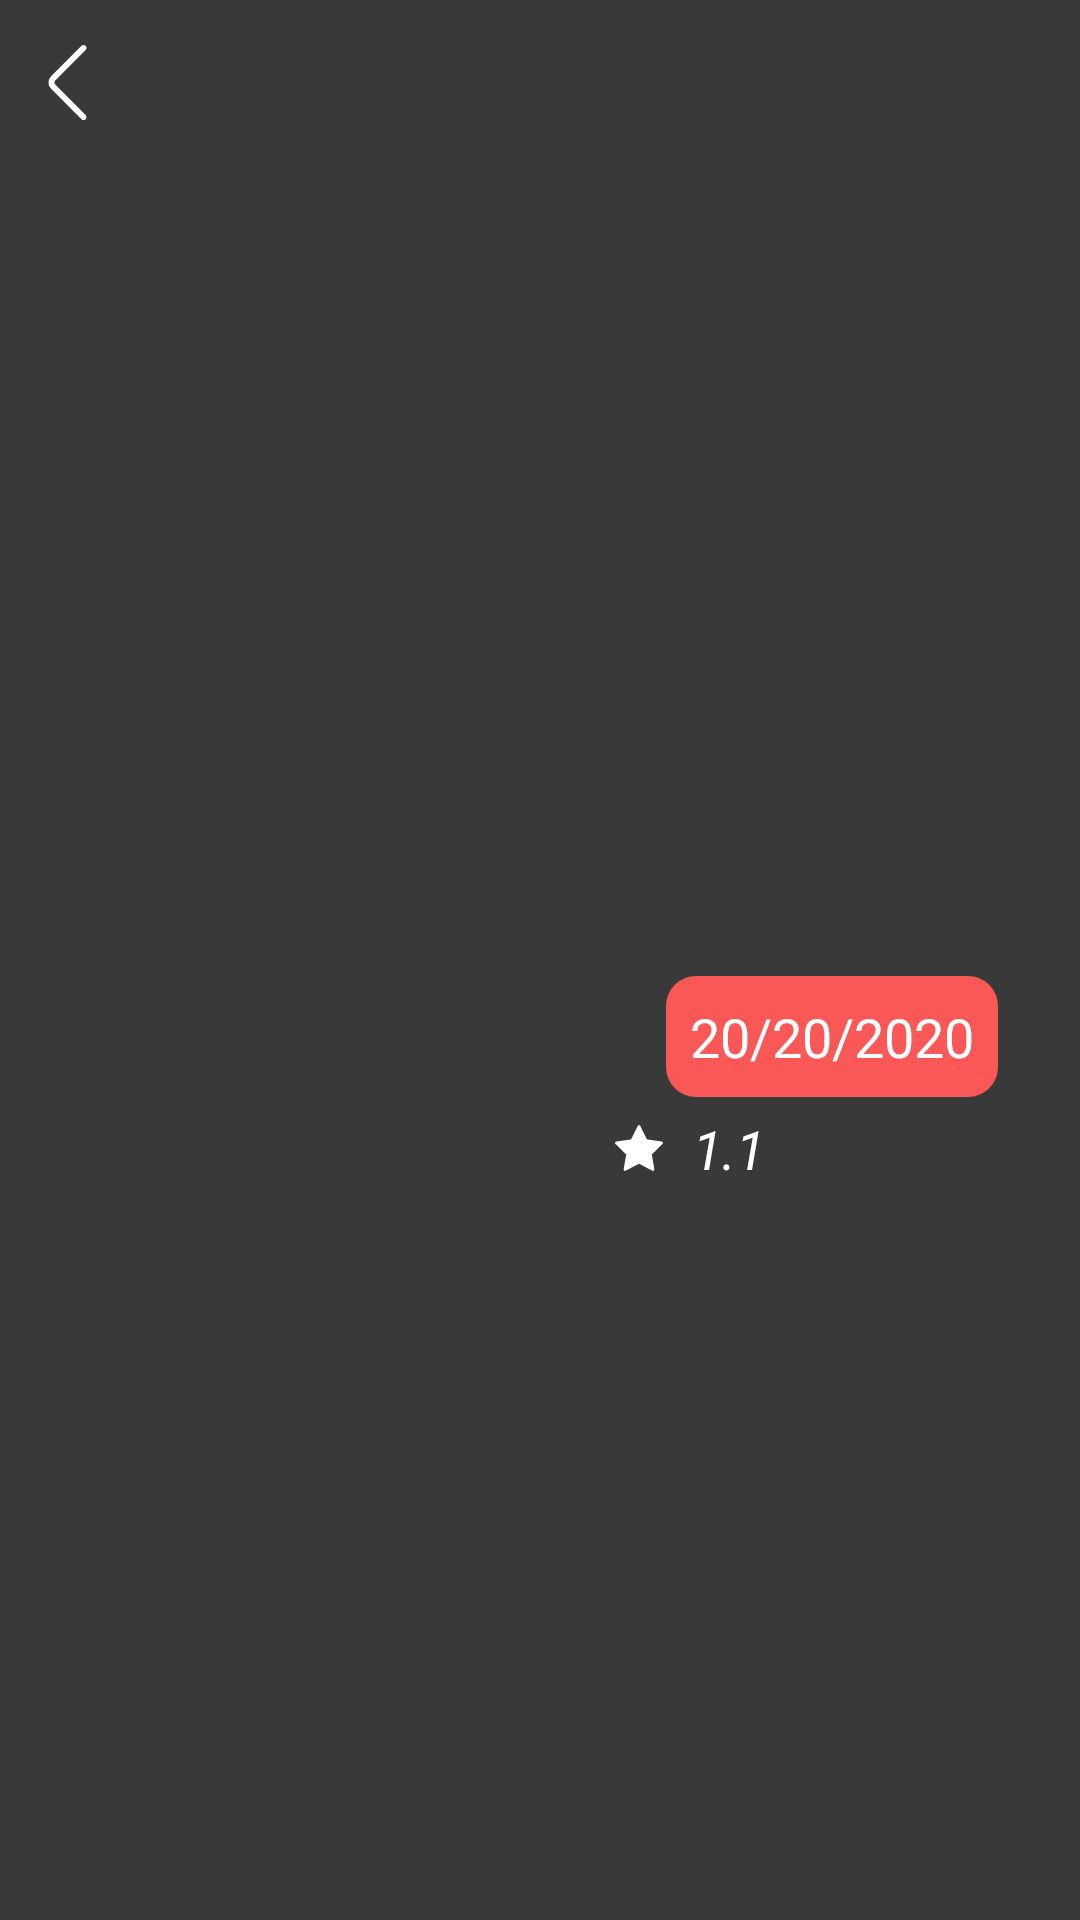

Where icons sit on this 1080 × 1920 app screen, as rect(x1, y1, x2, y2):
back arrow: rect(48, 45, 87, 120)
